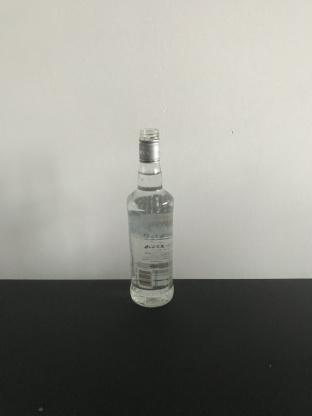nakretka: (137, 126, 161, 163)
